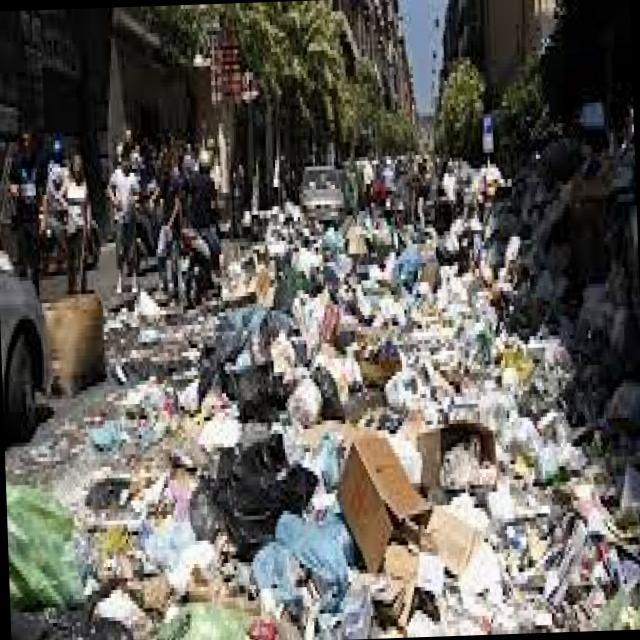garbage: (7, 197, 640, 640)
